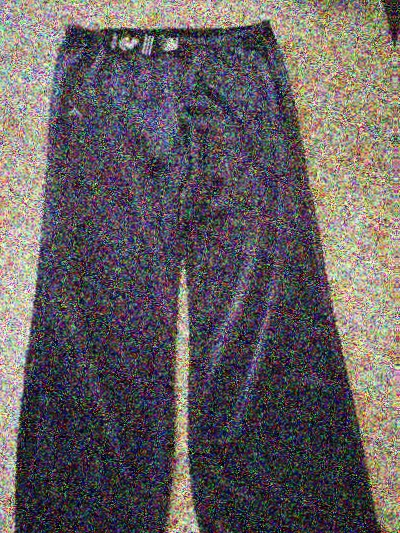Pants: (0, 11, 379, 533)
